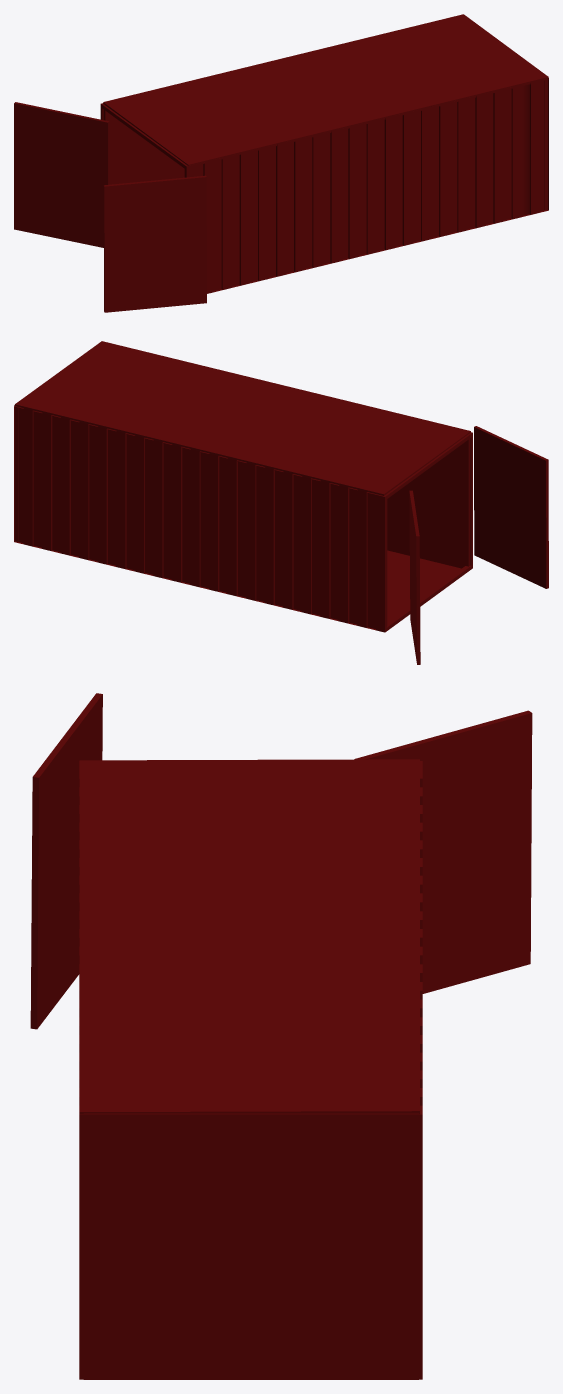
Rendered from container-red1.FBX.
The picture shows the model from 3 angles, top to bottom: view 1: azimuth 30°, elevation 25°; view 2: azimuth 150°, elevation 25°; view 3: azimuth 270°, elevation 25°; orthographic projection. The views are drawn at different scales.
Visible parts, largest first — view 1: Box002, Box010, Box003, Box004, Box007, Box009; view 2: Box002, Box010, Box003, Box008, Plane001, Box004, Box009; view 3: Box010, Box009, Box004, Box003, Box002.
Part boxes in pixels (x1,y1,x2,y2): Box002: (100,78,548,293); Box010: (103,14,548,165); Box003: (103,175,206,312); Box004: (14,102,109,247); Box007: (103,110,184,184); Box009: (544,80,547,210); Box002: (14,406,472,632); Box010: (15,341,470,495); Box003: (474,426,548,588); Box008: (387,438,470,568); Plane001: (39,547,461,629); Box004: (409,490,420,664); Box009: (14,405,18,541); Box010: (79,759,419,1114); Box009: (83,1113,418,1379); Box004: (354,710,532,993); Box003: (30,693,102,1029); Box002: (79,761,422,1379).
Bounding box in the file's own units: 140 × 40.74 × 69.06.
